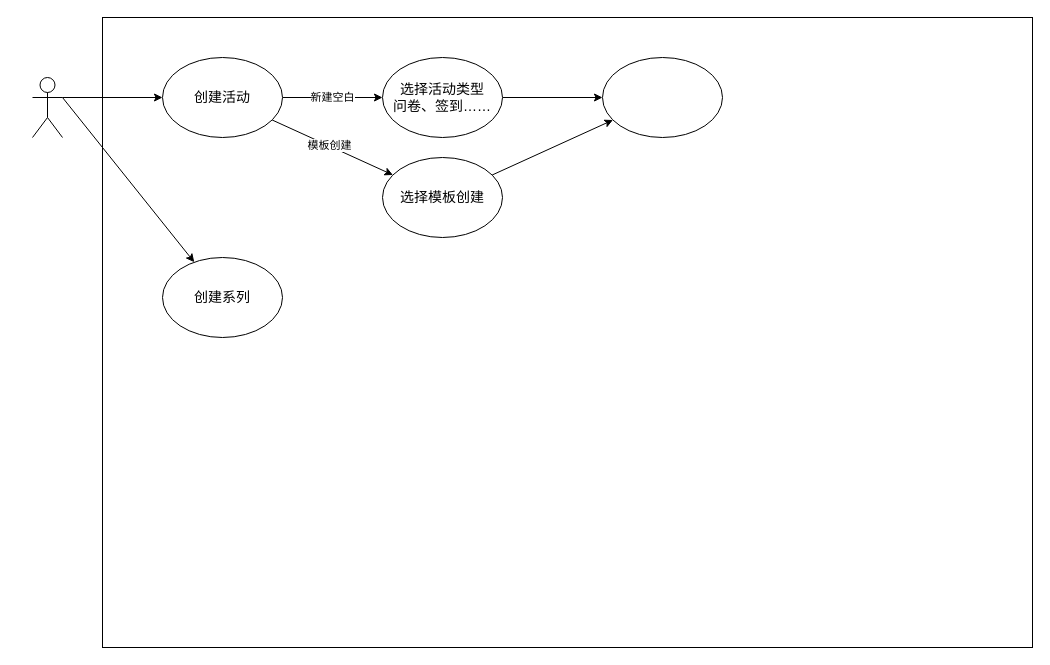
This 1050x665 diagram has some shape labels left out. Here are the shapes that lost their labels. From the top down, the centre of each, then its label:
the point at 47,107: 活动创建人
the point at 662,97: 修改活动配置 名称、时间……
